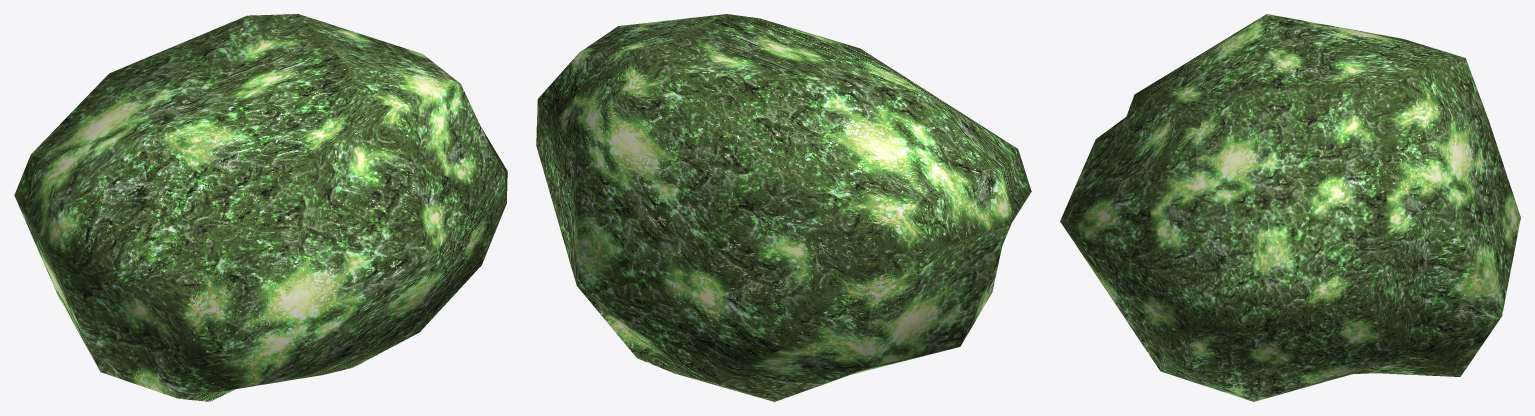
Rendered from asteroid_acid_radial_s03_l1.fbx.
The picture shows the model from 3 angles, left to right: view 1: azimuth 30°, elevation 25°; view 2: azimuth 150°, elevation 25°; view 3: azimuth 270°, elevation 25°; orthographic projection. The views are drawn at different scales.
Visible parts, largest first — view 1: mesh_node; view 2: mesh_node; view 3: mesh_node.
Part boxes in pixels (left/top/right/bottom): mesh_node: left=14, top=14, right=507, bottom=401; mesh_node: left=536, top=14, right=1031, bottom=401; mesh_node: left=1060, top=14, right=1520, bottom=401.
Size of the model in its own units: 5.98 by 4.08 by 4.88.
